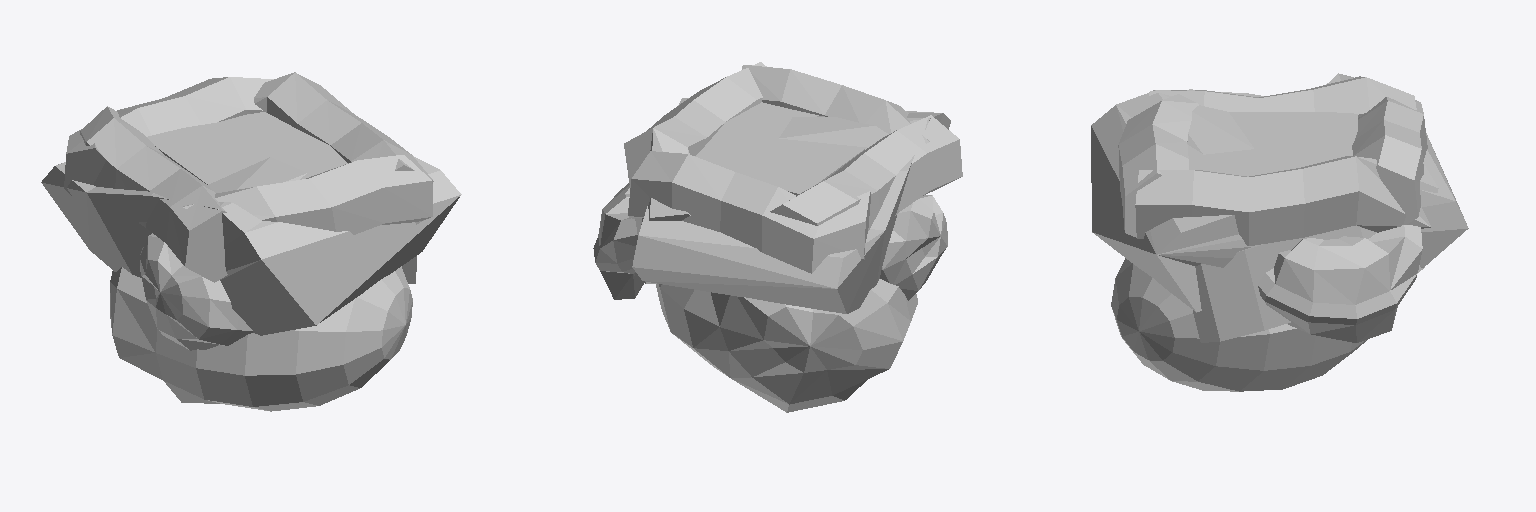
Rendered from Asteroid.obj.
The picture shows the model from 3 angles: view 1: azimuth 30°, elevation 25°; view 2: azimuth 150°, elevation 25°; view 3: azimuth 270°, elevation 25°; orthographic projection.
Parts seen in each view (by area): view 1: group[number redacted], group[number redacted]; view 2: group[number redacted], group[number redacted]; view 3: group[number redacted], group[number redacted].
Boxes of the visible parts, x1=… form: group[number redacted]: x1=41, y1=72, x2=461, y2=411; group[number redacted]: x1=147, y1=112, x2=347, y2=184; group[number redacted]: x1=593, y1=62, x2=962, y2=412; group[number redacted]: x1=695, y1=102, x2=866, y2=195; group[number redacted]: x1=1091, y1=73, x2=1468, y2=391; group[number redacted]: x1=1187, y1=112, x2=1357, y2=176.
Size of the model in its own units: 0.4588 by 0.4179 by 0.5211.